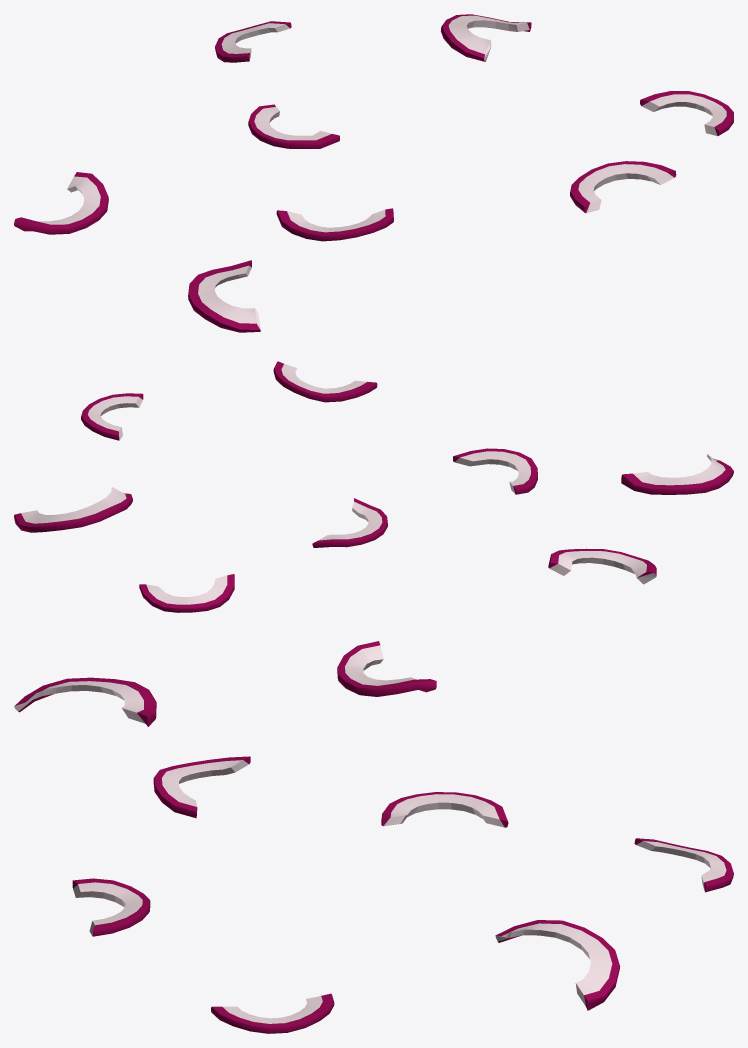
File: onions.glb
3 renders of one model, top to bottom at view 1: azimuth 30°, elevation 25°; view 2: azimuth 150°, elevation 25°; view 3: azimuth 270°, elevation 25°, orthographic. The views are drawn at different scales.
Parts seen in each view (by area): view 1: polySurface210, polySurface209, polySurface214, polySurface215, polySurface213, polySurface212, polySurface211, polySurface208; view 2: polySurface215, polySurface210, polySurface214, polySurface208, polySurface213, polySurface209, polySurface211, polySurface212; view 3: polySurface215, polySurface210, polySurface214, polySurface211, polySurface213, polySurface209, polySurface212, polySurface208.
Part boxes in pixels (x1=…): polySurface210: x1=188, y1=260, x2=260, y2=332; polySurface209: x1=570, y1=161, x2=676, y2=213; polySurface214: x1=14, y1=172, x2=108, y2=234; polySurface215: x1=441, y1=14, x2=531, y2=61; polySurface213: x1=276, y1=208, x2=393, y2=241; polySurface212: x1=640, y1=91, x2=733, y2=136; polySurface211: x1=248, y1=104, x2=339, y2=148; polySurface208: x1=215, y1=21, x2=291, y2=62; polySurface215: x1=14, y1=487, x2=132, y2=532; polySurface210: x1=621, y1=454, x2=733, y2=494; polySurface214: x1=548, y1=548, x2=656, y2=584; polySurface208: x1=139, y1=574, x2=234, y2=612; polySurface213: x1=453, y1=448, x2=537, y2=494; polySurface209: x1=273, y1=361, x2=377, y2=402; polySurface211: x1=312, y1=498, x2=387, y2=547; polySurface212: x1=81, y1=393, x2=143, y2=440; polySurface215: x1=495, y1=920, x2=620, y2=1010; polySurface210: x1=14, y1=677, x2=156, y2=726; polySurface214: x1=337, y1=641, x2=436, y2=696; polySurface211: x1=381, y1=792, x2=508, y2=827; polySurface213: x1=153, y1=756, x2=250, y2=818; polySurface209: x1=72, y1=878, x2=150, y2=936; polySurface212: x1=211, y1=993, x2=334, y2=1033; polySurface208: x1=634, y1=838, x2=733, y2=892.
Bounding box in the file's own units: 0.0703 × 0.00379 × 0.0574.
